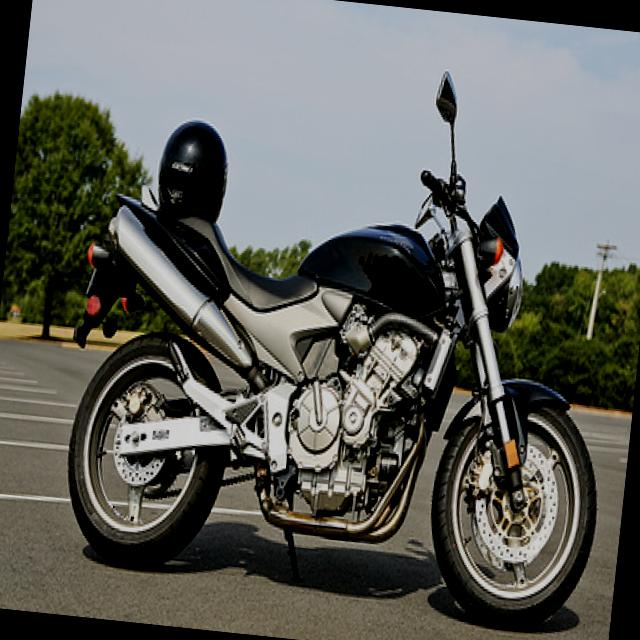Vehicle: (46, 38, 638, 637)
